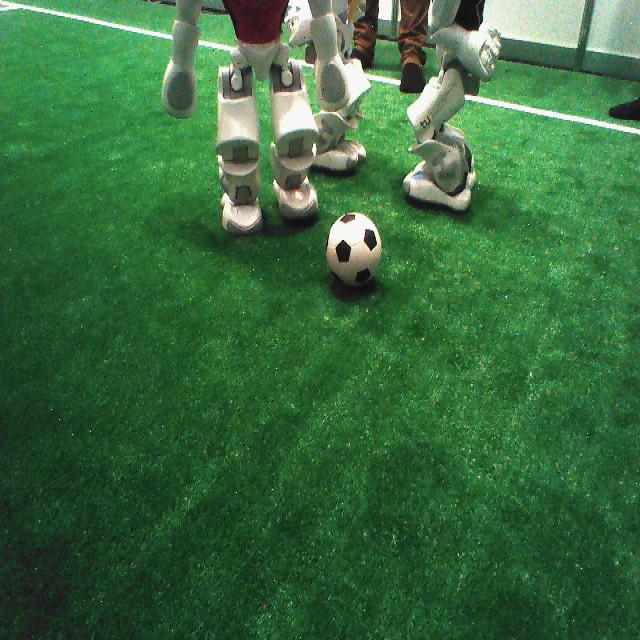ball: (312, 201, 395, 299)
